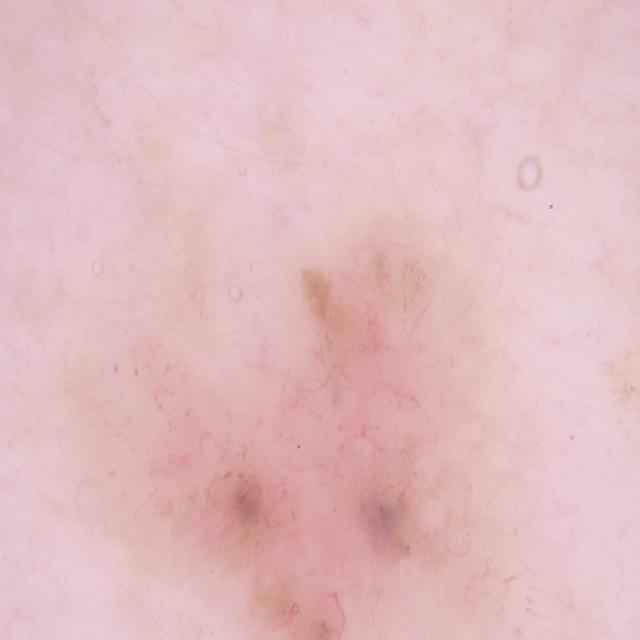Carcinoma: (108, 216, 539, 640)
